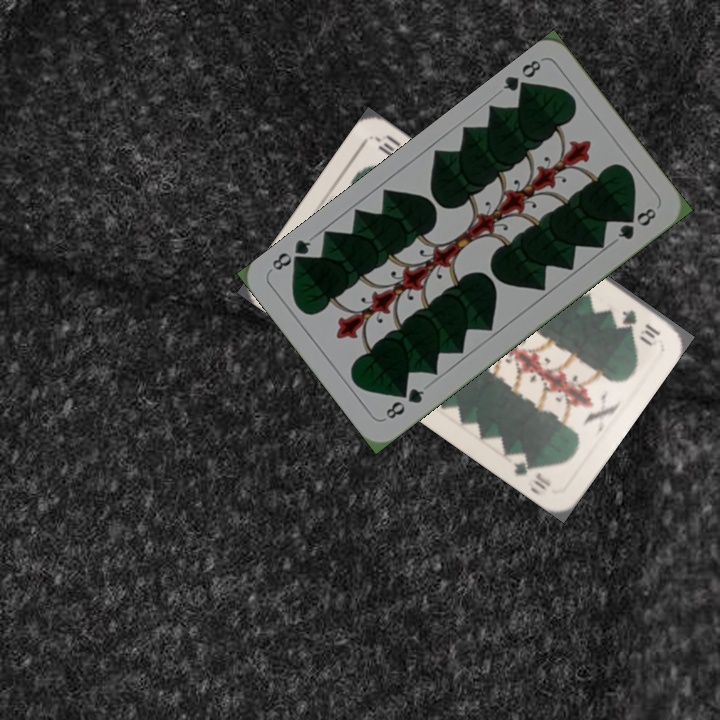G10: (618, 305, 664, 347)
G8: (498, 55, 544, 99), (381, 384, 427, 422)
